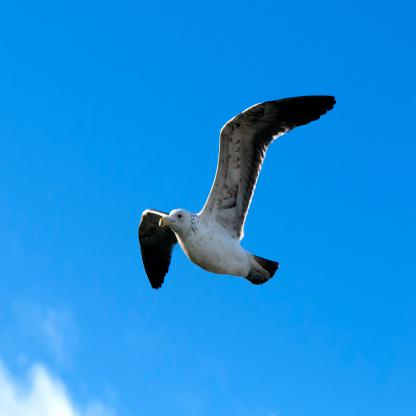bird: (138, 94, 336, 291)
